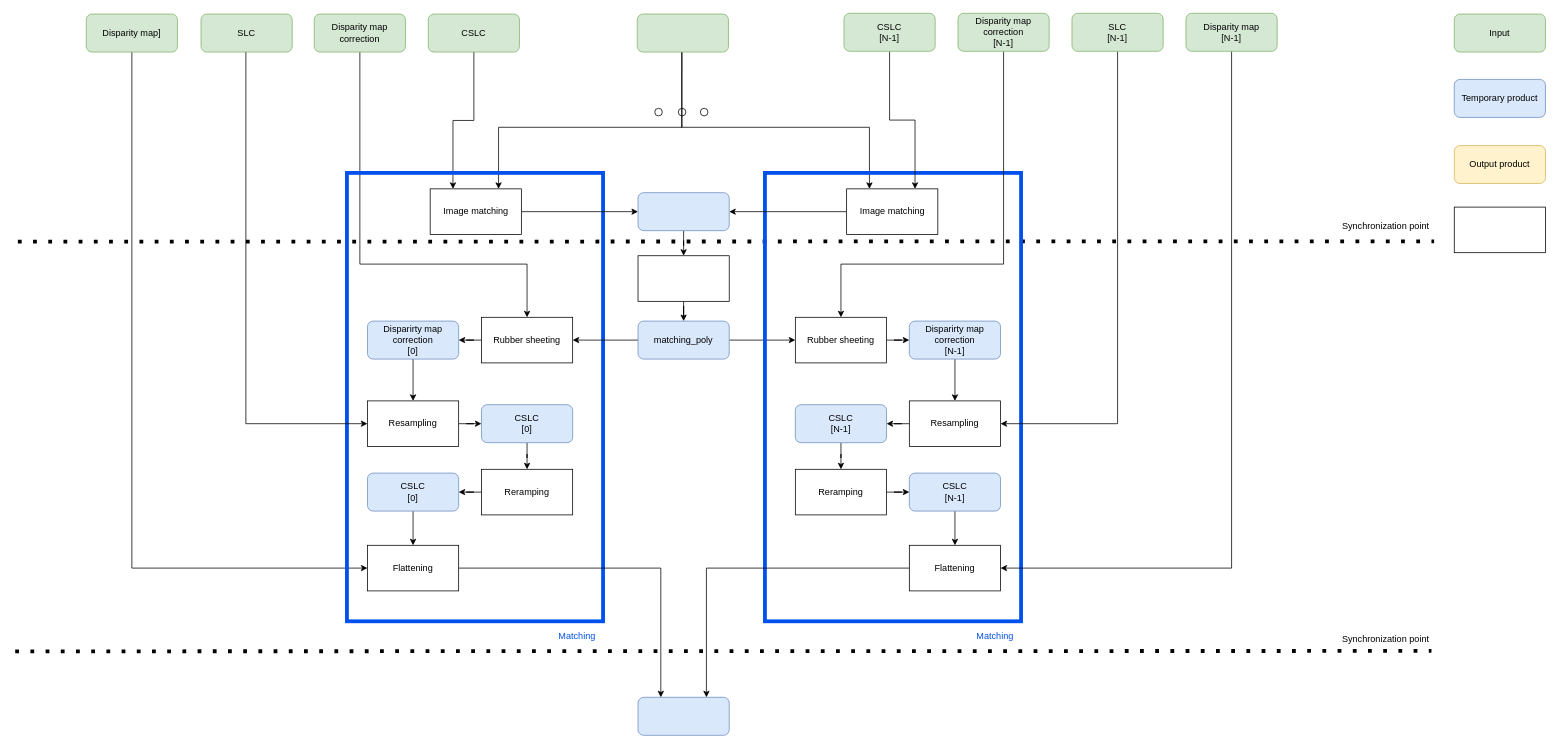
This 1559x749 diagram has some shape labels left out. The shapes that lost their labels are listed below. From the top down, each one's centre as x and y in pixels, then its label:
the point at 682,32: Reference CSLC [0:N-1]
the point at 683,211: Patches [0:N-1]
the point at 1499,229: Processing block
the point at 683,278: Robust 2D fit
the point at 683,716: CSLC [0:N-1]
